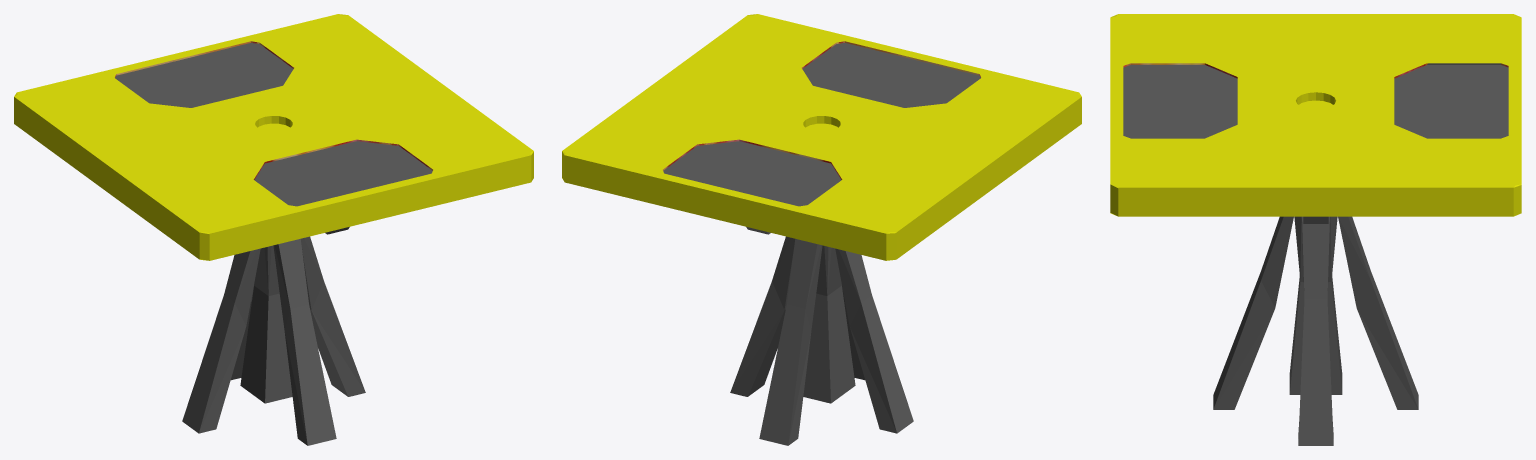
File: table.fbx
The picture shows the model from 3 angles, left to right: view 1: azimuth 30°, elevation 25°; view 2: azimuth 150°, elevation 25°; view 3: azimuth 270°, elevation 25°; orthographic projection. The views are drawn at different scales.
Visible parts, largest first — view 1: Cube; view 2: Cube; view 3: Cube.
Part boxes in pixels (x1,y1,x2,y2): Cube: [14, 14, 533, 445]; Cube: [562, 14, 1081, 445]; Cube: [1110, 14, 1521, 445].
Size of the model in its own units: 116 by 94.01 by 116.
3 materials, 1 textured.
